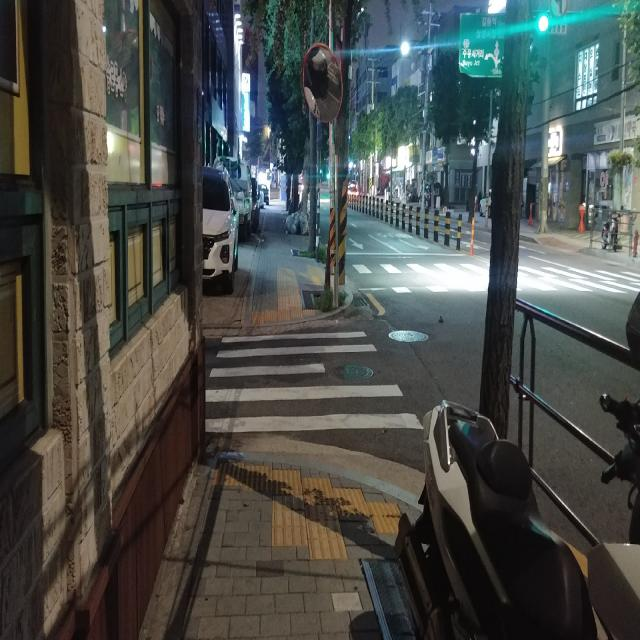횡단보도: (204, 328, 426, 435), (360, 252, 640, 300)
